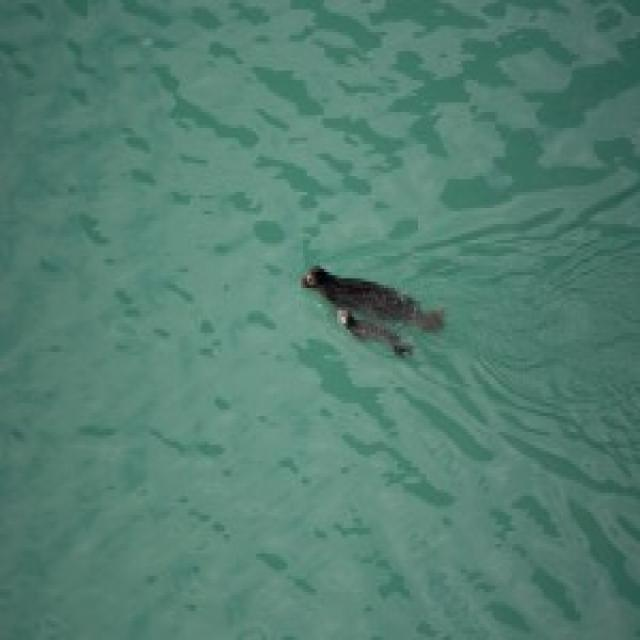Seal: (285, 258, 447, 305), (337, 310, 417, 366)
